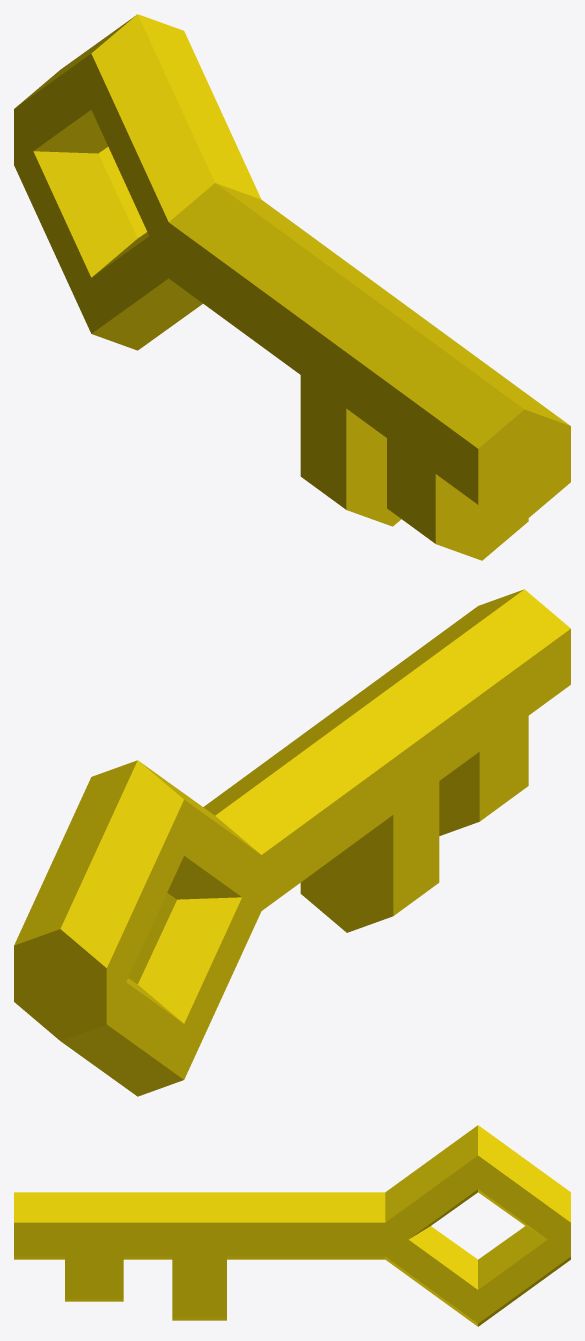
The model's file is Key.fbx.
3 renders of one model, top to bottom at view 1: azimuth 30°, elevation 25°; view 2: azimuth 150°, elevation 25°; view 3: azimuth 270°, elevation 25°, orthographic. The views are drawn at different scales.
Visible parts, largest first — view 1: Key; view 2: Key; view 3: Key.
Boxes of the visible parts, box(x1,y1,x2,y2) form: Key: box(14, 14, 570, 560); Key: box(14, 589, 570, 1096); Key: box(14, 1125, 570, 1326).
Size of the model in its own units: 25.98 by 90 by 225.
